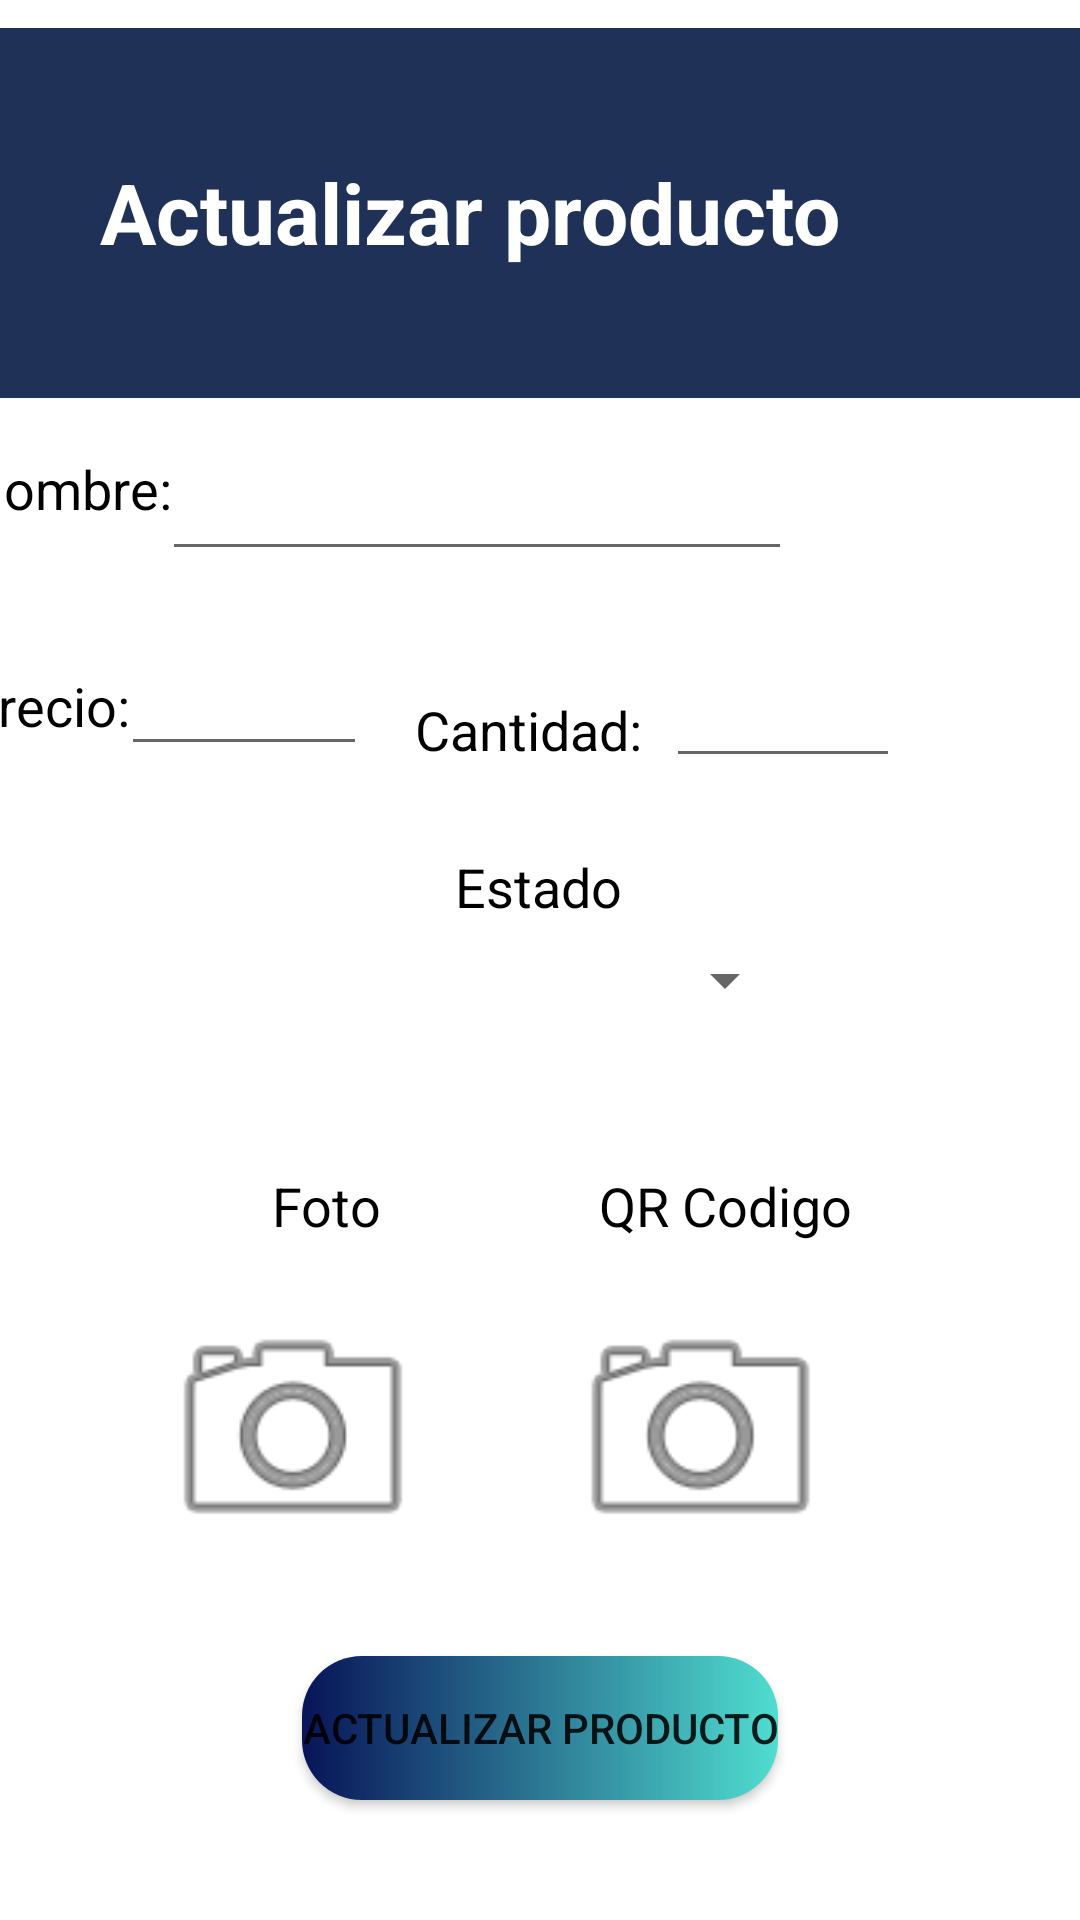

Screen size 1080×1920. Icon name, then its center in pixels as (x=x, y=y):
camera: (x=293, y=1427), (x=700, y=1427)
